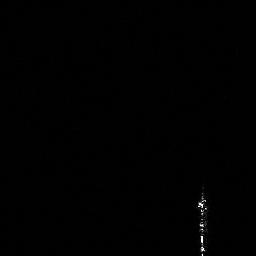ship: (192, 185, 213, 256)
